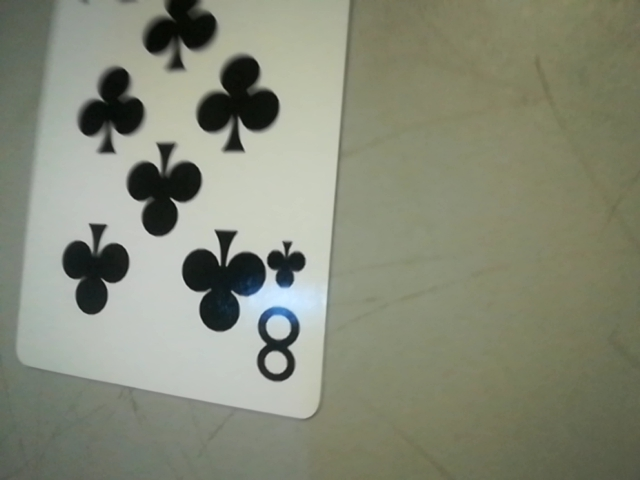mh 8: (250, 235, 320, 401)
